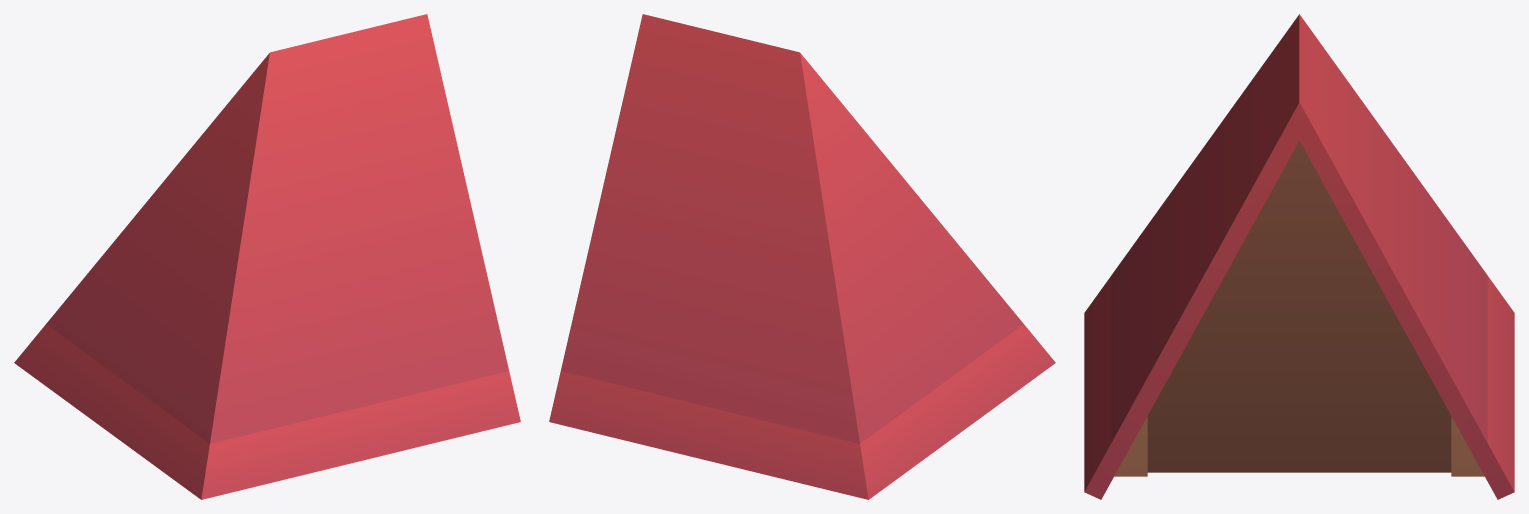
Rendered from roof-high-gable-end.glb.
The picture shows the model from 3 angles, left to right: view 1: azimuth 30°, elevation 25°; view 2: azimuth 150°, elevation 25°; view 3: azimuth 270°, elevation 25°; orthographic projection. The views are drawn at different scales.
Visible parts, largest first — view 1: roof-high-gable-end; view 2: roof-high-gable-end; view 3: roof-high-gable-end.
Boxes of the visible parts, <box> form: roof-high-gable-end: <box>14,14,520,499</box>; roof-high-gable-end: <box>549,14,1055,499</box>; roof-high-gable-end: <box>1084,14,1514,499</box>.
Bounding box in the file's own units: 1.12 × 1.16 × 1.13.
Materials: 1 (1 with a texture image).
